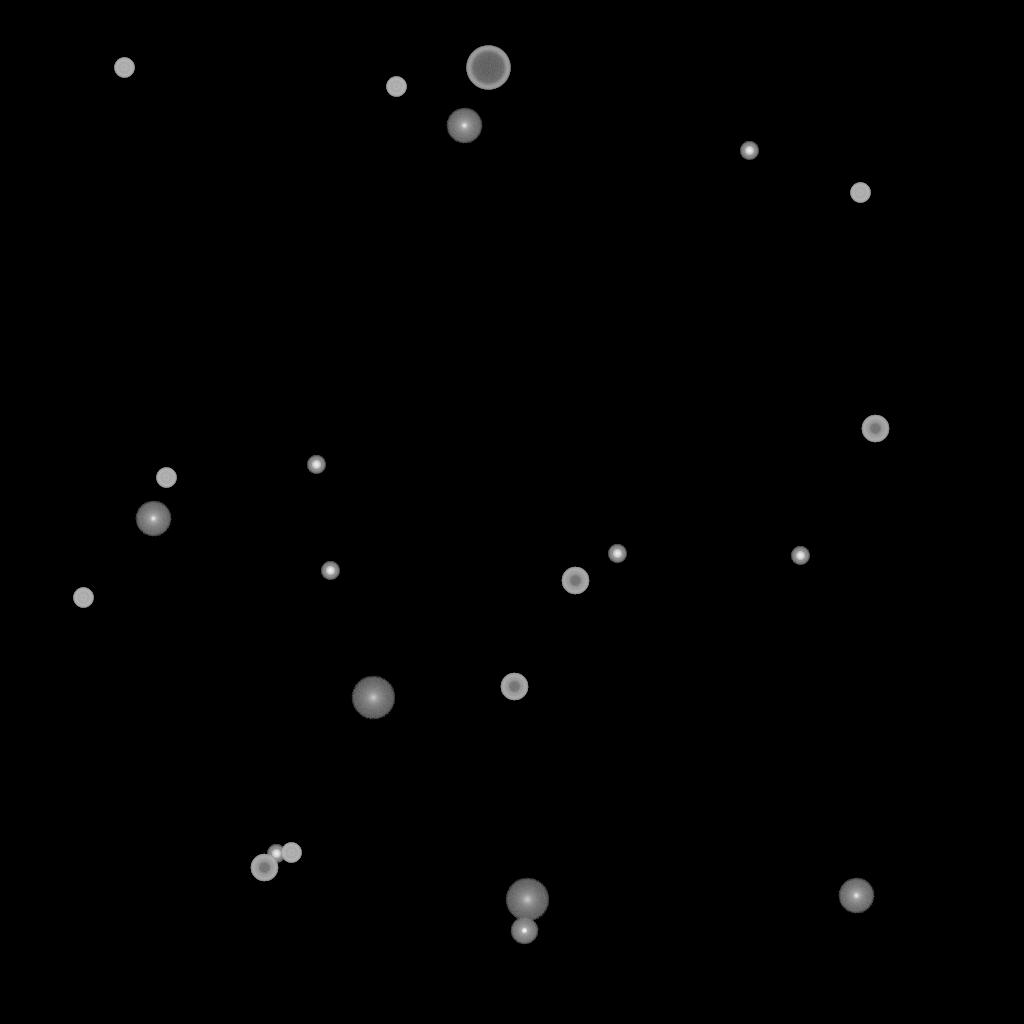depth:-10: (510, 917, 538, 945)
depth:-20: (791, 547, 809, 565), (740, 142, 758, 160), (321, 562, 339, 580), (608, 545, 626, 563), (307, 456, 325, 474), (267, 845, 285, 863)
depth:-40: (114, 58, 134, 78), (156, 468, 176, 488), (386, 77, 406, 97), (850, 183, 870, 203), (73, 588, 93, 608), (281, 843, 301, 863)
depth:-50: (250, 854, 278, 882), (500, 673, 528, 701), (561, 567, 589, 595), (861, 415, 889, 443)
depth:-70: (466, 46, 510, 90)
depth:0: (838, 878, 874, 914), (135, 501, 171, 537), (446, 108, 482, 144)
depth:10: (505, 878, 549, 922), (351, 676, 395, 720)
